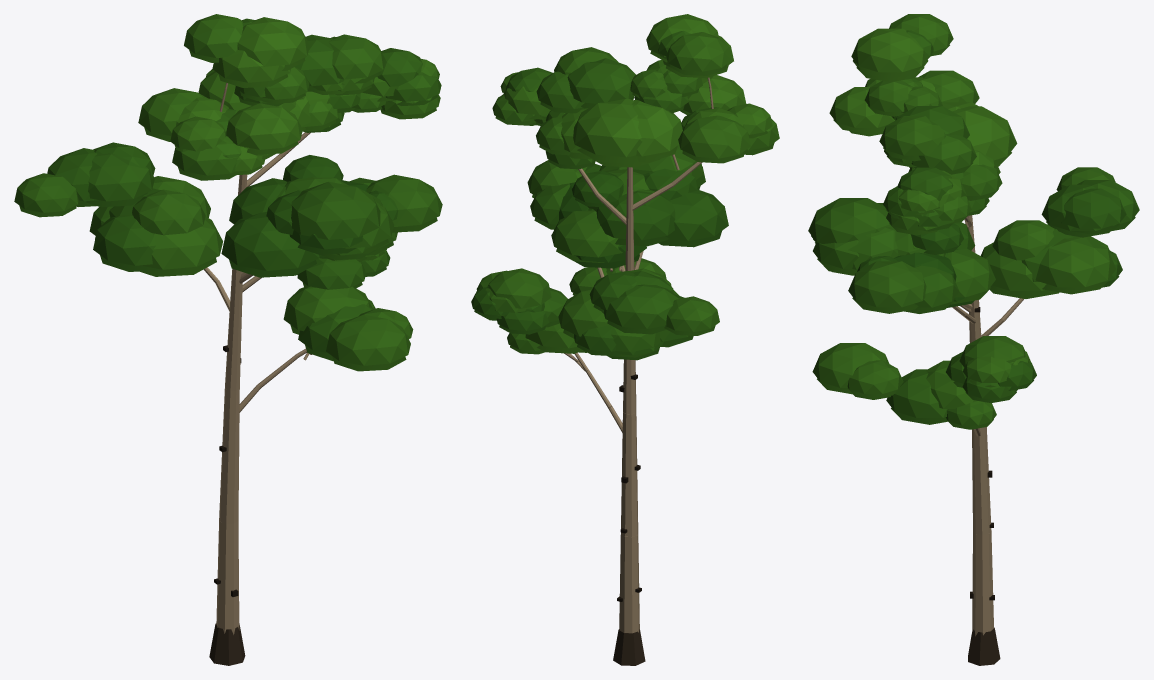
File: tree_birch_1.glb
3 views of the same model, side by side, from view 1: azimuth 30°, elevation 25°; view 2: azimuth 150°, elevation 25°; view 3: azimuth 270°, elevation 25° (orthographic). The views are drawn at different scales.
Parts seen in each view (by area): view 1: leaf, wood; view 2: leaf, wood; view 3: leaf, wood.
Part boxes in pixels (x1,y1,x2,y2): leaf: (14, 14, 442, 371); wood: (204, 83, 311, 665); leaf: (471, 14, 779, 360); wood: (564, 77, 713, 665); leaf: (808, 14, 1139, 429); wood: (952, 215, 1023, 665).
Bounding box in the file's own units: 6.08 × 12.07 × 5.82.
